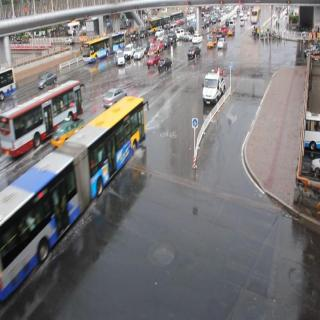BigCar: (0, 91, 148, 302), (6, 80, 78, 149)
Car: (207, 62, 230, 114), (180, 42, 206, 78), (106, 86, 134, 108), (154, 55, 177, 79), (112, 47, 134, 69)
